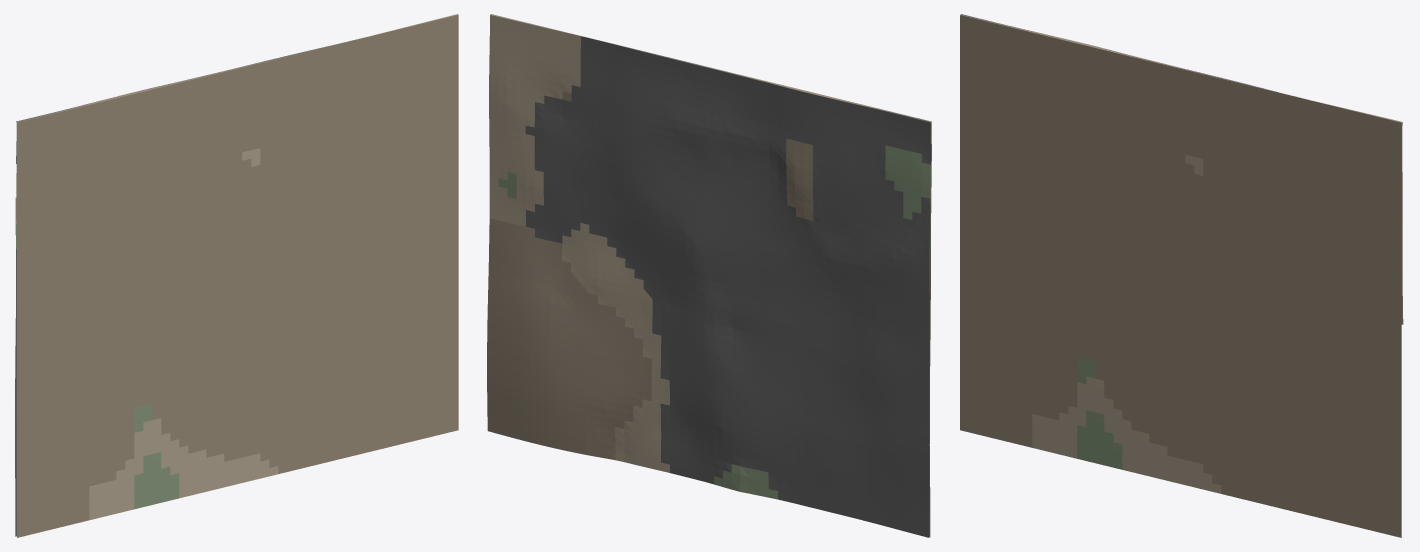
File: geological_solid_yeongtong.glb
The picture shows the model from 3 angles, left to right: view 1: azimuth 30°, elevation 25°; view 2: azimuth 150°, elevation 25°; view 3: azimuth 330°, elevation 25°; orthographic projection.
Visible parts, largest first — view 1: TOPSOIL, WEATHERED, SOFT_ROCK, HARD_ROCK; view 2: HARD_ROCK, TOPSOIL, WEATHERED, SOFT_ROCK; view 3: TOPSOIL, WEATHERED, SOFT_ROCK.
Part boxes in pixels (x1,y1,x2,y2): TOPSOIL: (17, 14, 458, 537); WEATHERED: (16, 14, 457, 520); SOFT_ROCK: (16, 122, 179, 509); HARD_ROCK: (15, 40, 353, 536); HARD_ROCK: (525, 36, 931, 537); TOPSOIL: (487, 14, 931, 536); WEATHERED: (489, 14, 931, 472); SOFT_ROCK: (498, 122, 931, 499); TOPSOIL: (960, 14, 1401, 537); WEATHERED: (1032, 104, 1403, 493); SOFT_ROCK: (1077, 357, 1122, 469).
Size of the model in its own units: 3072 by 2761 by 66.94.
